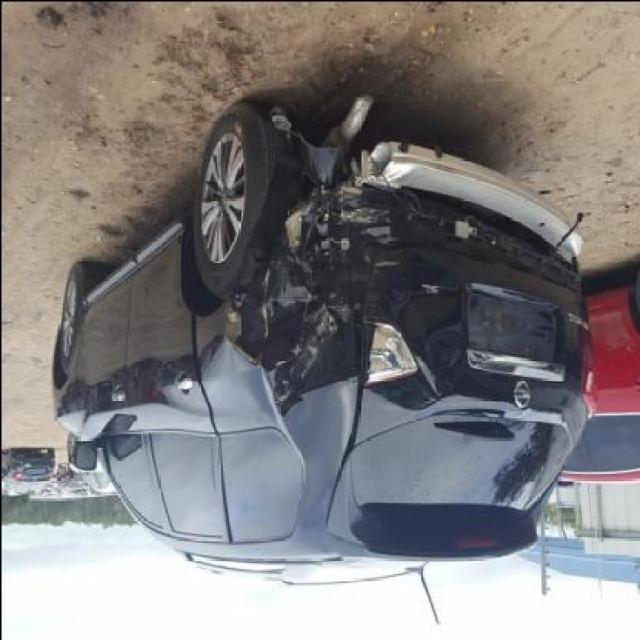damage: (214, 109, 433, 420), (402, 187, 583, 296)
